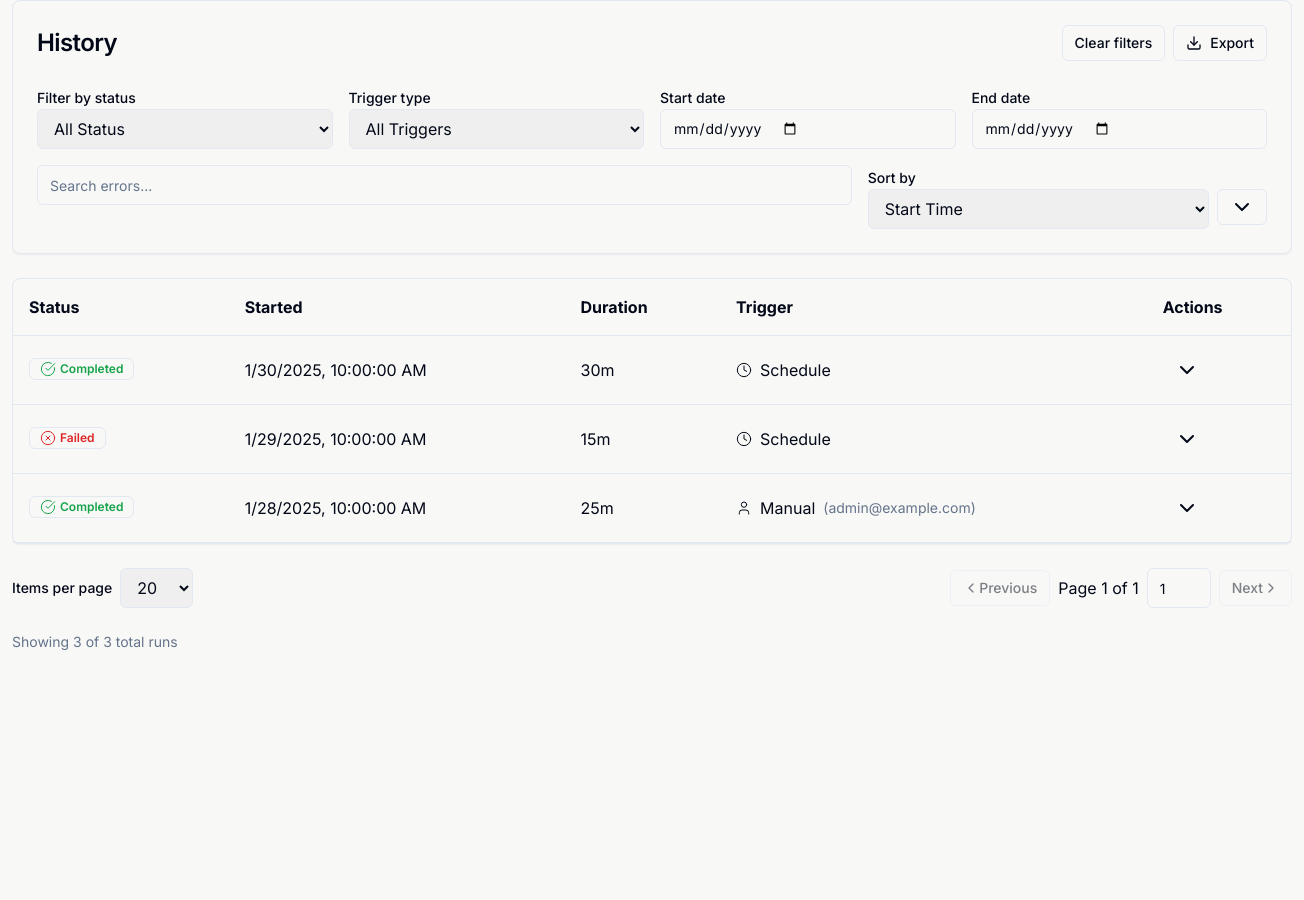
OperationHistory › Detailed View › expands to show step details
Expected: the table with test id "history-list" is shown, [13,279,1291,543]
Click the button with test id "expand-run-1": click(1187, 370) [1163,352,1211,388]
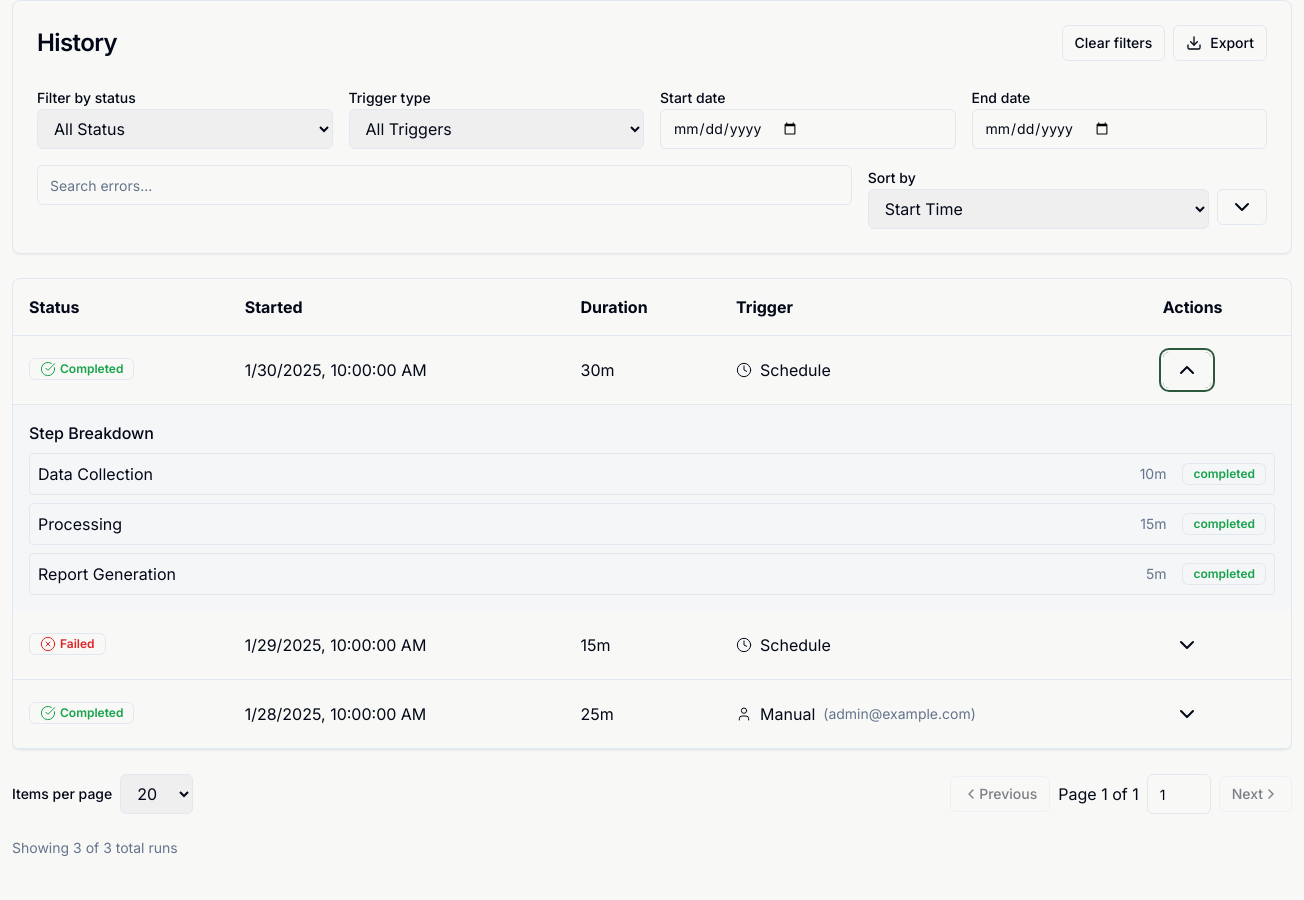
Expected: the element with test id "run-1-steps" is shown, [29,421,1275,595]
Expected: the text "Data Collection" is shown, [38,462,153,486]
Expected: the text "10m" is shown, [1140,464,1166,484]
